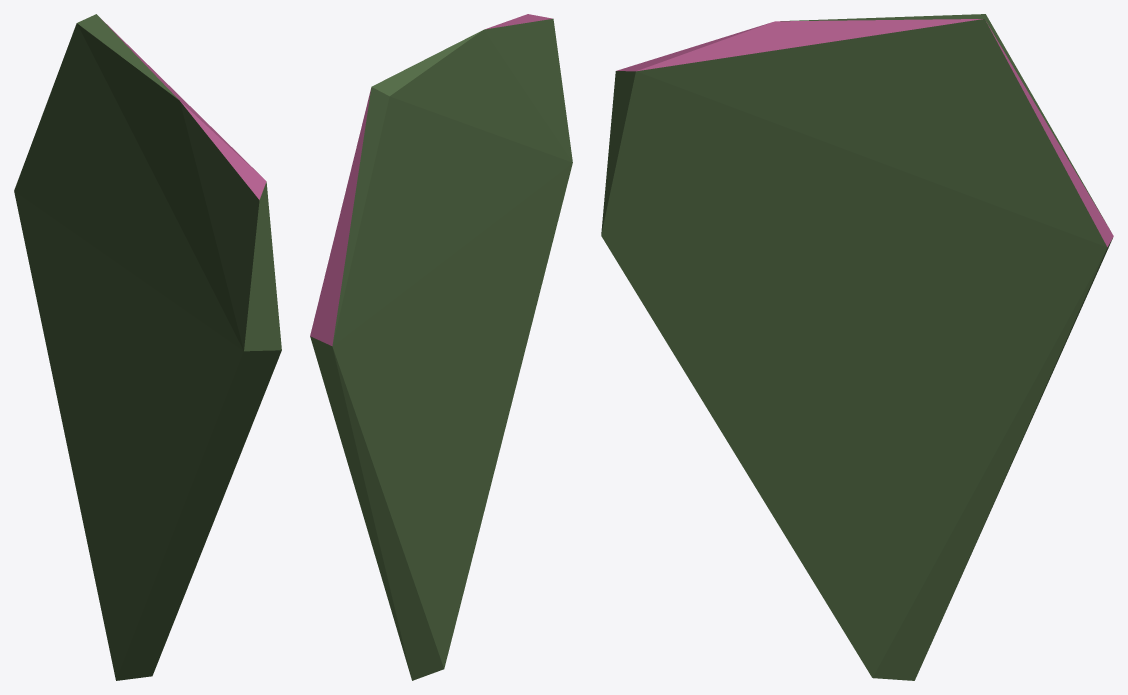
File: CactusFlowers_4.lod4.glb
3 views of the same model, side by side, from view 1: azimuth 30°, elevation 25°; view 2: azimuth 150°, elevation 25°; view 3: azimuth 270°, elevation 25° (orthographic). The views are drawn at different scales.
Parts seen in each view (by area): view 1: CactusFlowers_4; view 2: CactusFlowers_4; view 3: CactusFlowers_4.
Boxes of the visible parts, bbox=[...] form: CactusFlowers_4: bbox=[14, 14, 281, 680]; CactusFlowers_4: bbox=[310, 14, 572, 680]; CactusFlowers_4: bbox=[601, 14, 1113, 680].
Bounding box in the file's own units: 0.0786 × 1.38 × 0.961.
